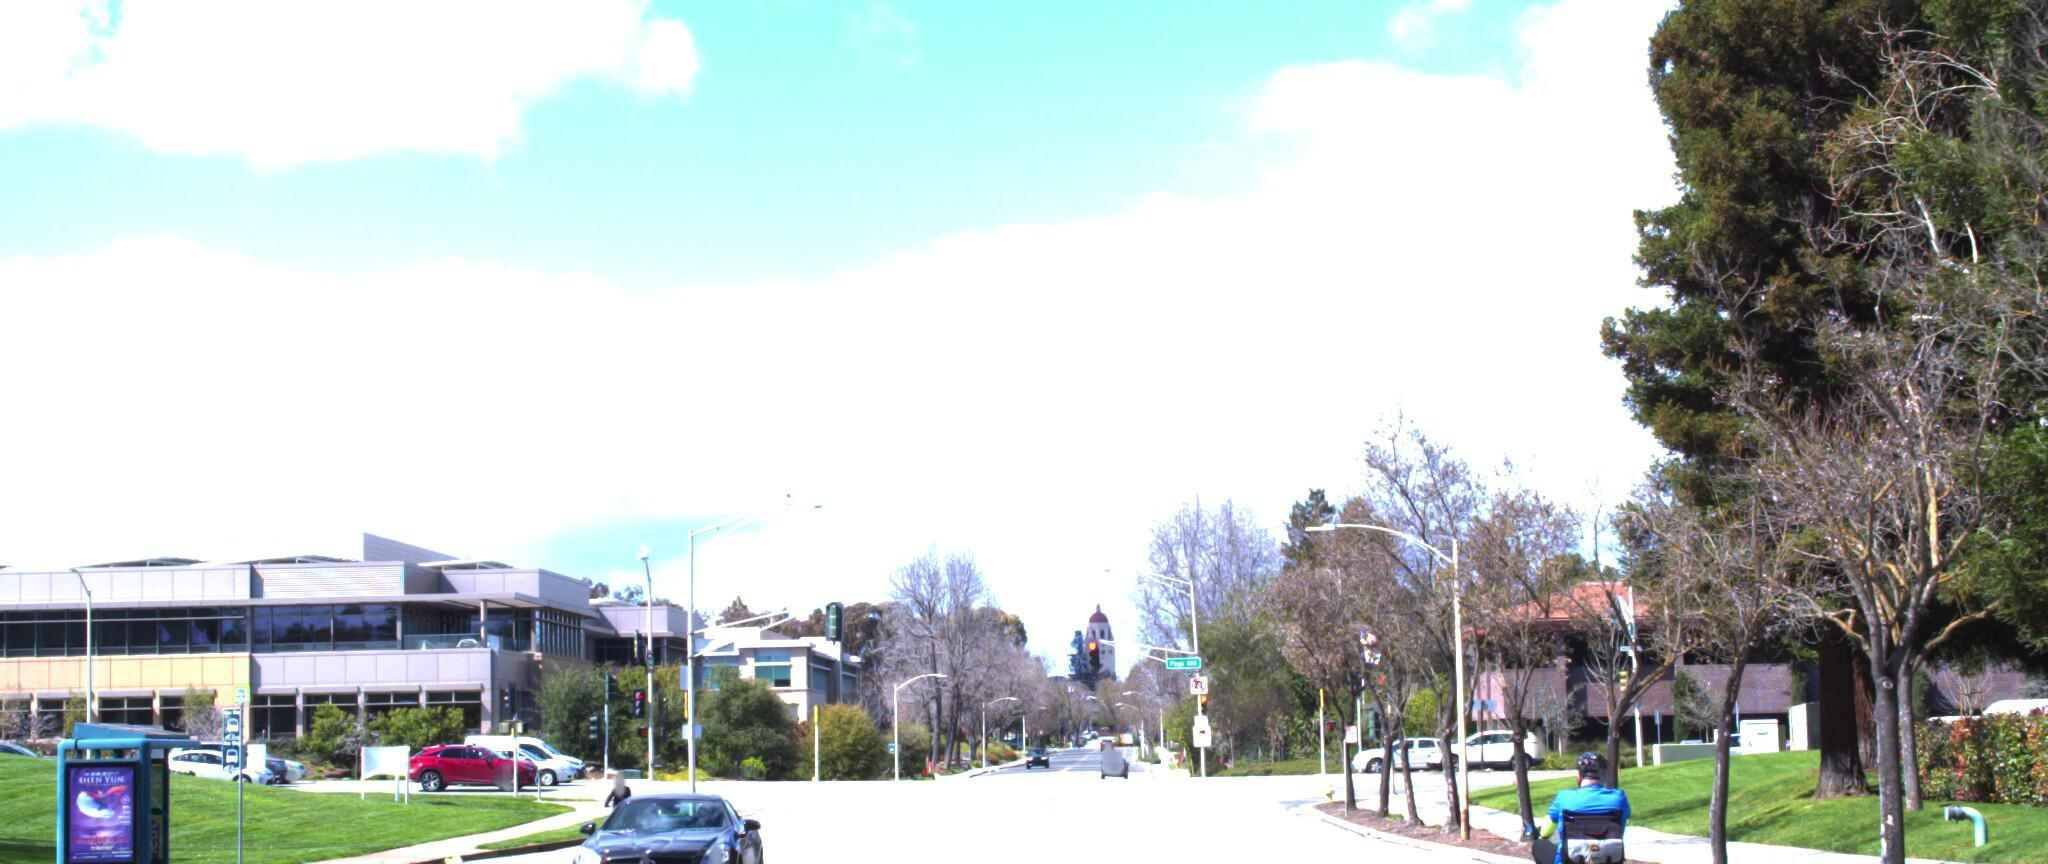bicycle: (1505, 741, 1652, 864)
car: (558, 784, 775, 864)
